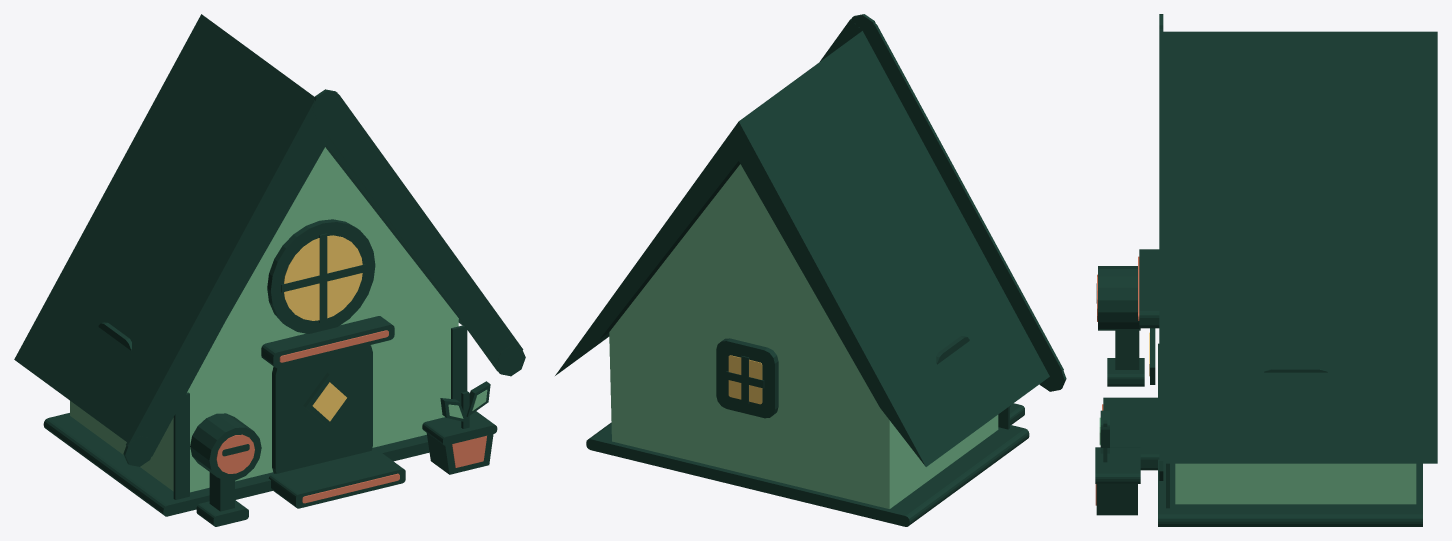
3 views of the same model, side by side, from view 1: azimuth 30°, elevation 25°; view 2: azimuth 150°, elevation 25°; view 3: azimuth 270°, elevation 25° (orthographic). The views are drawn at different scales.
Parts seen in each view (by area): view 1: Rent Free house; view 2: Rent Free house; view 3: Rent Free house.
Part boxes in pixels (x1,y1,x2,y2): Rent Free house: (14,14,525,526); Rent Free house: (555,14,1066,526); Rent Free house: (1095,14,1437,526).
Bounding box in the file's own units: 1.09 × 1.01 × 0.7314.
